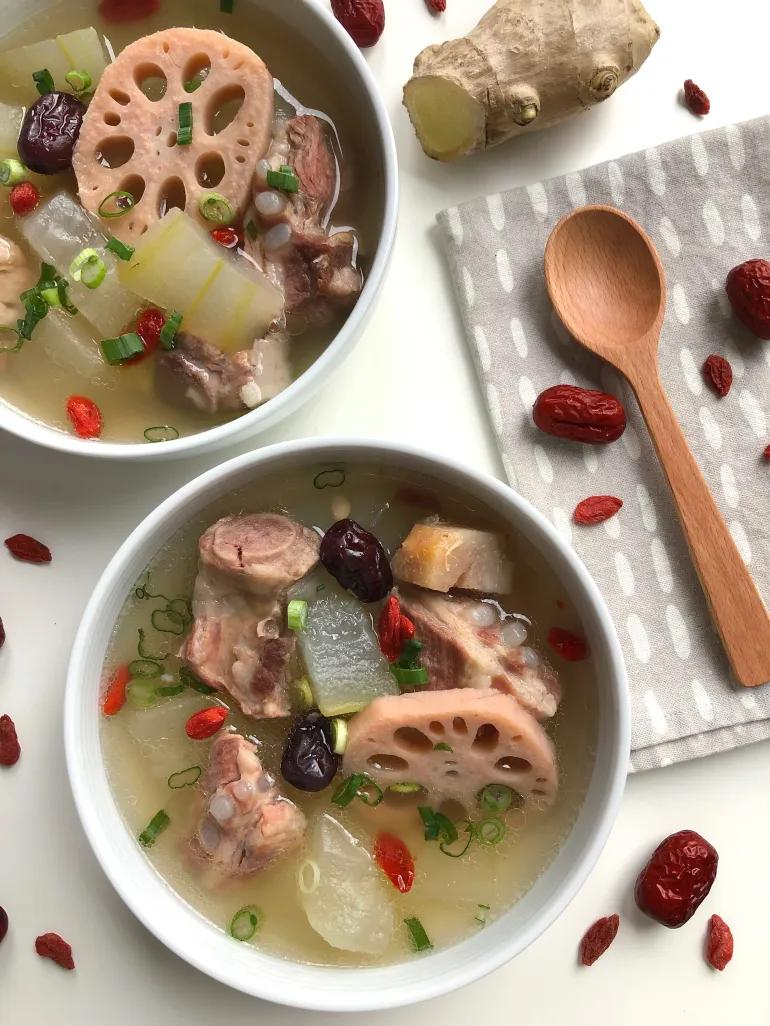Braised Crucian Carp: (59, 466, 600, 998), (0, 4, 393, 449)
